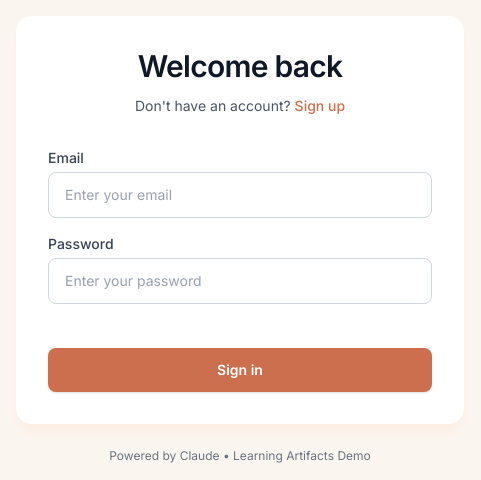
Test: LoginPage › disables submit button while loading
In the field with placeholder "Enter your email": (240,195) x1=48 y1=172 x2=432 y2=218, type "test@example.com"
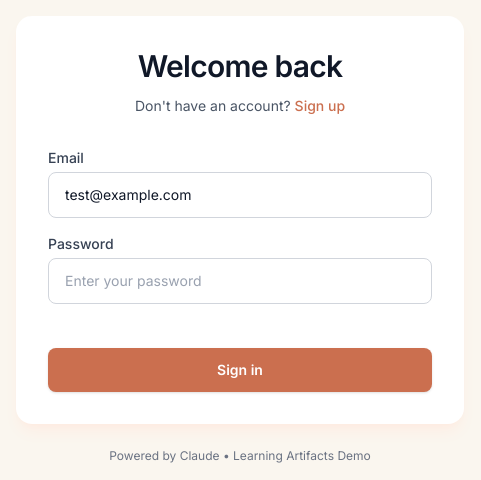
In the password field with placeholder "Enter your password": (240,281) x1=48 y1=258 x2=432 y2=304, type "password123"
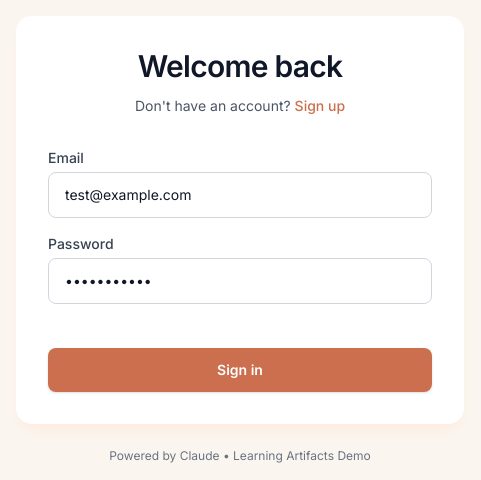
Click the button "Sign in": (240,370) x1=48 y1=348 x2=432 y2=392
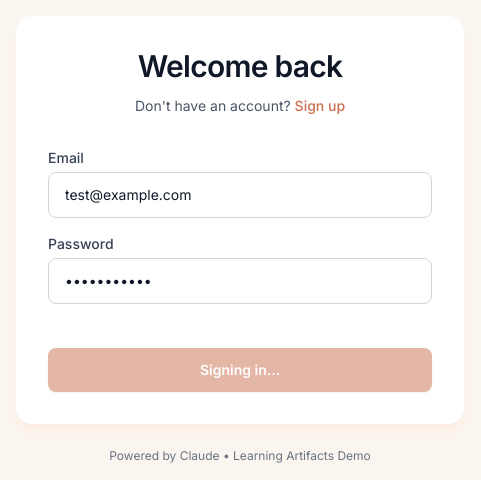
Result: the button "Signing in..." is disabled at x1=48 y1=348 x2=432 y2=392
